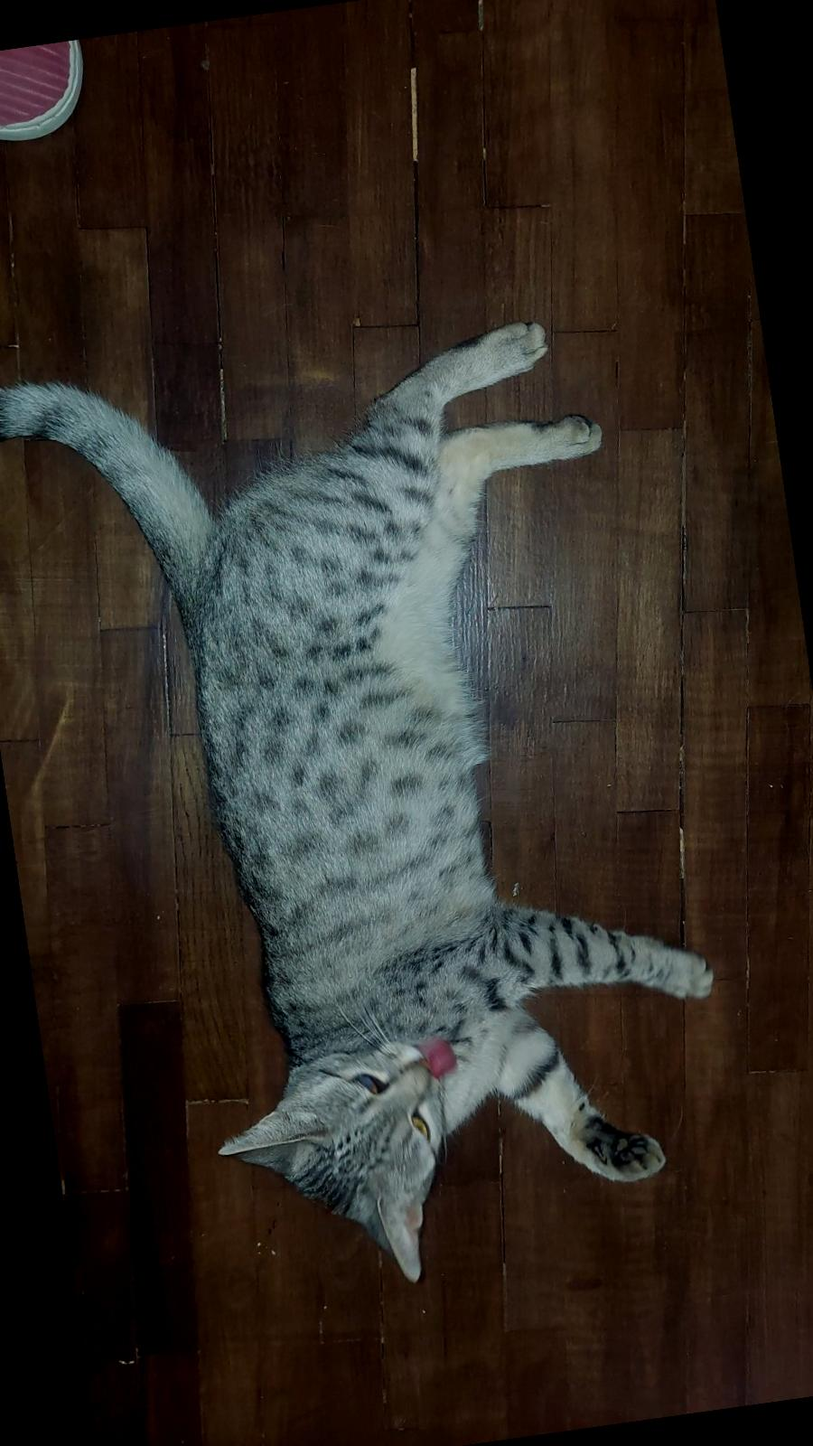macka: (0, 302, 753, 1329)
